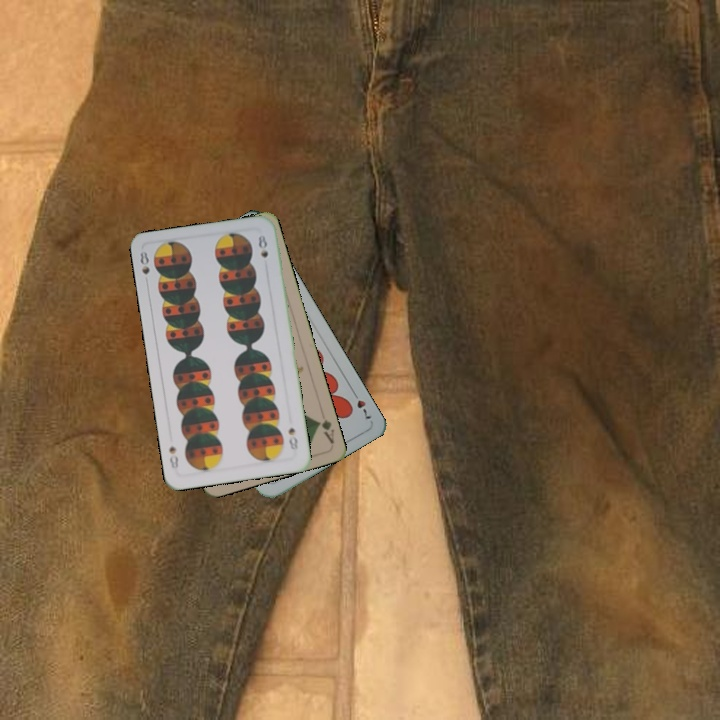GA: (312, 415, 337, 446)
H7: (348, 386, 374, 422)
S8: (136, 247, 152, 288), (284, 424, 300, 455)
